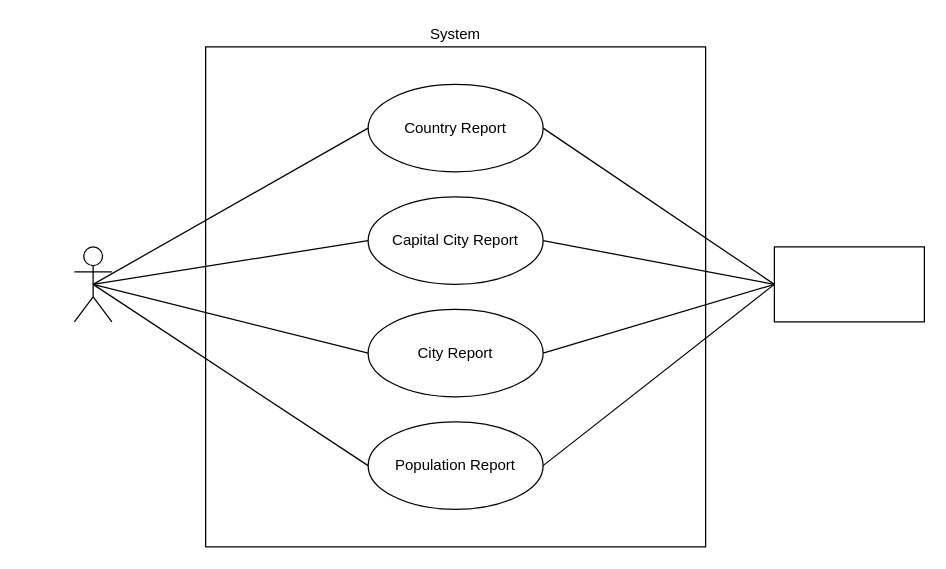
This 946x569 diagram has some shape labels left out. The box of each missing label's shape, as (x1, y1, x2, y2) in pixels:
Database: (773, 246, 924, 322)
Organisation Member: (73, 246, 112, 322)
